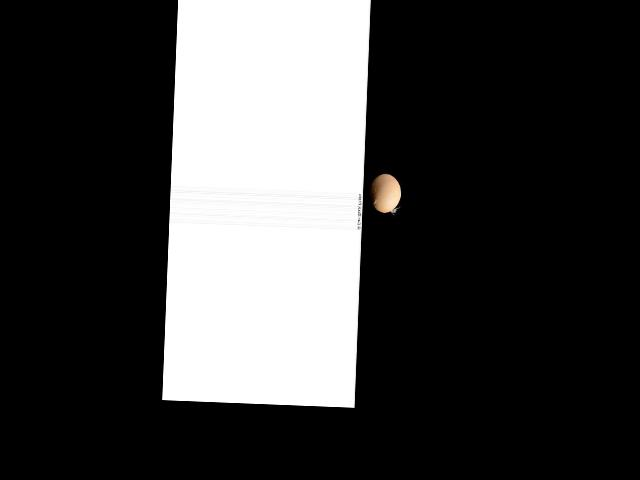egg: (368, 172, 401, 212)
